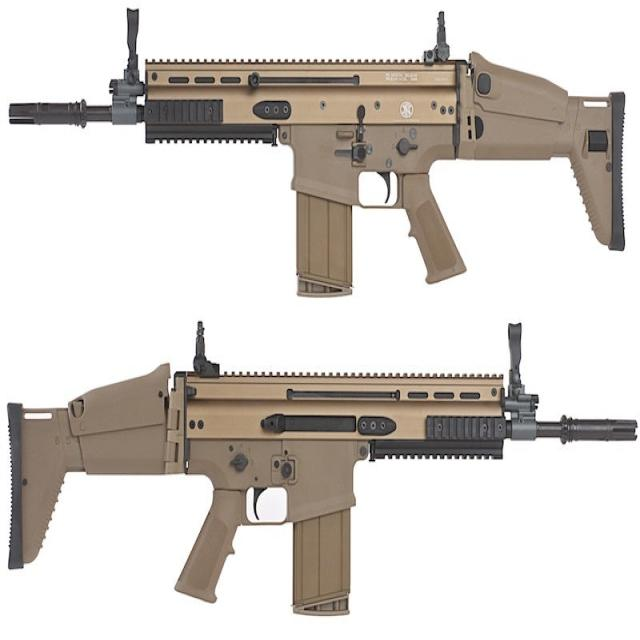Gun: (0, 331, 640, 640), (4, 0, 634, 313)
